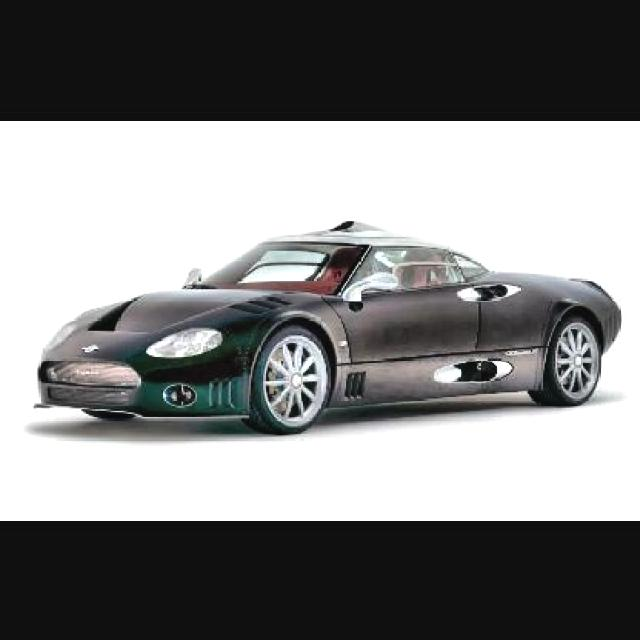black: (21, 204, 640, 455)
